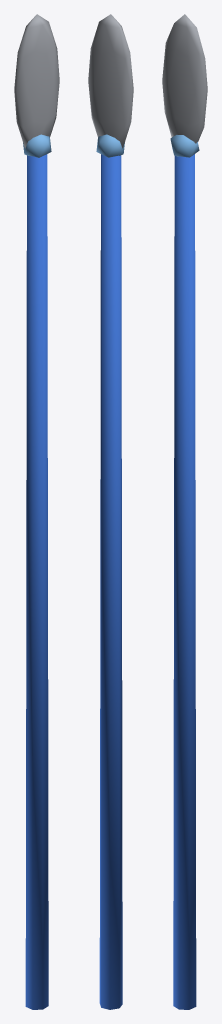
The model's file is mushroom_spear.glb.
3 renders of one model, left to right at view 1: azimuth 30°, elevation 25°; view 2: azimuth 150°, elevation 25°; view 3: azimuth 330°, elevation 25°, orthographic.
Parts seen in each view (by area): view 1: mushroom_spear_v0; view 2: mushroom_spear_v0; view 3: mushroom_spear_v0.
Boxes of the visible parts, bbox=[...] form: mushroom_spear_v0: bbox=[14, 14, 59, 1009]; mushroom_spear_v0: bbox=[88, 14, 133, 1009]; mushroom_spear_v0: bbox=[162, 14, 207, 1009].
Bounding box in the file's own units: 0.0761 × 1.67 × 0.0425.
